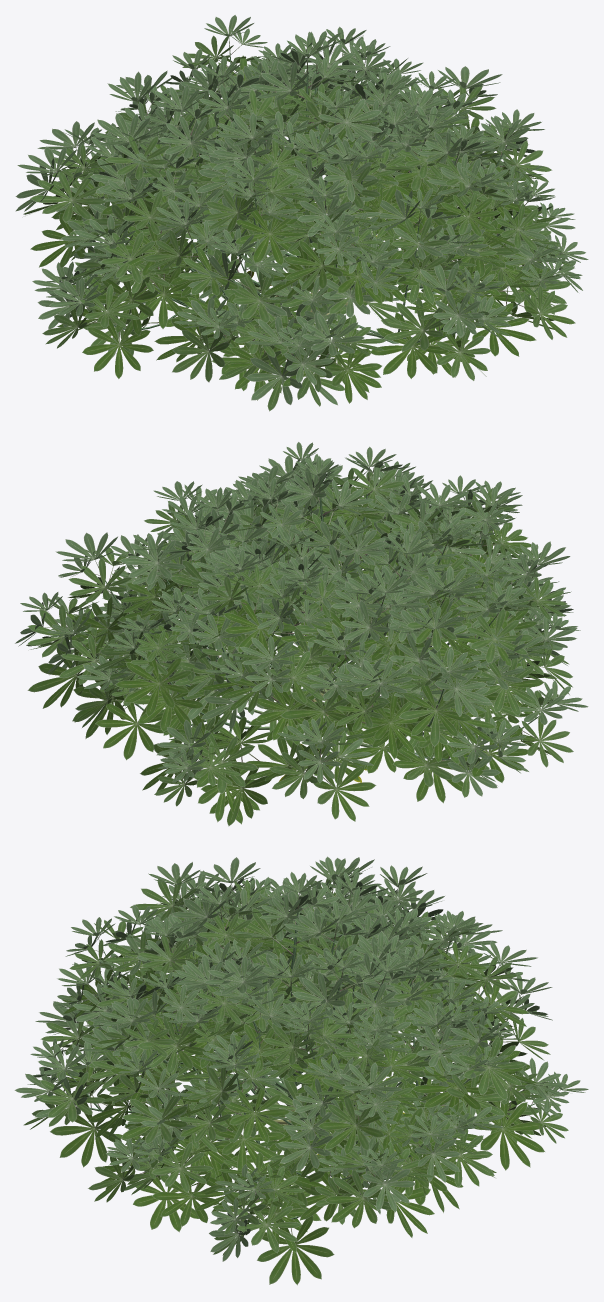
The model's file is Lupinus arboreus HD_Standard no flower mat 0_LOD0.fbx.
3 views of the same model, one above another, from view 1: azimuth 30°, elevation 25°; view 2: azimuth 150°, elevation 25°; view 3: azimuth 270°, elevation 25° (orthographic). The views are drawn at different scales.
Visible parts, largest first — view 1: Lupinus_arboreus_HD; view 2: Lupinus_arboreus_HD; view 3: Lupinus_arboreus_HD.
Part boxes in pixels (bbox=[...]): Lupinus_arboreus_HD: bbox=[15, 15, 588, 411]; Lupinus_arboreus_HD: bbox=[15, 442, 588, 826]; Lupinus_arboreus_HD: bbox=[14, 856, 588, 1285].
Size of the model in its own units: 1.29 by 0.7177 by 1.24.
13 materials, 13 textured.
